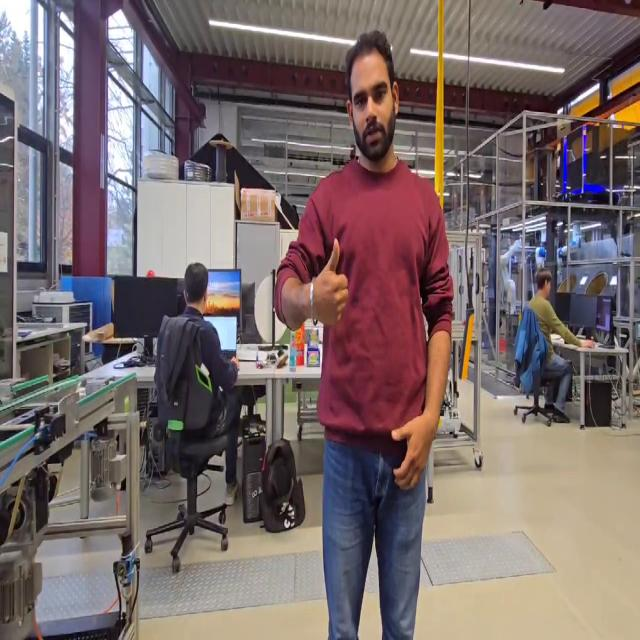thumbs_up: (310, 232, 352, 333)
